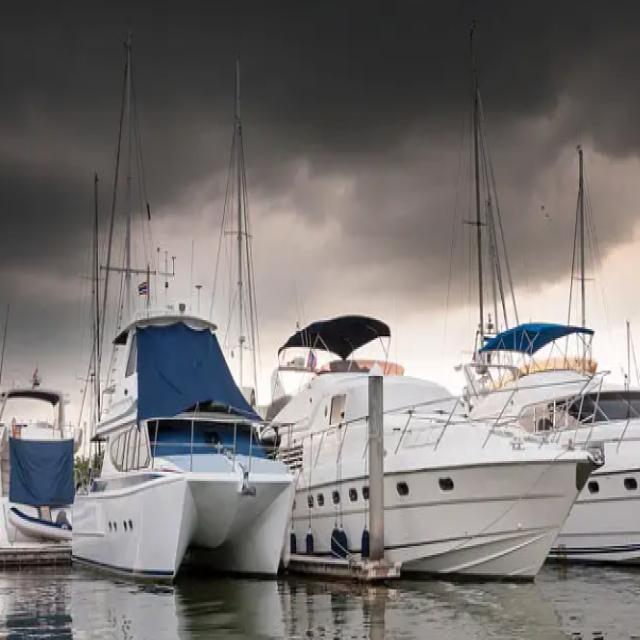houseboat: (263, 295, 588, 599), (55, 198, 286, 586)
